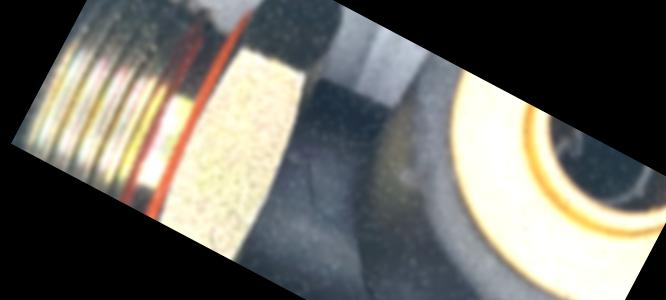craze: (283, 158, 336, 225)
off-centered: (526, 119, 660, 230)
white mark: (280, 145, 305, 169)
